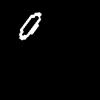chain: (19, 13, 40, 39)
